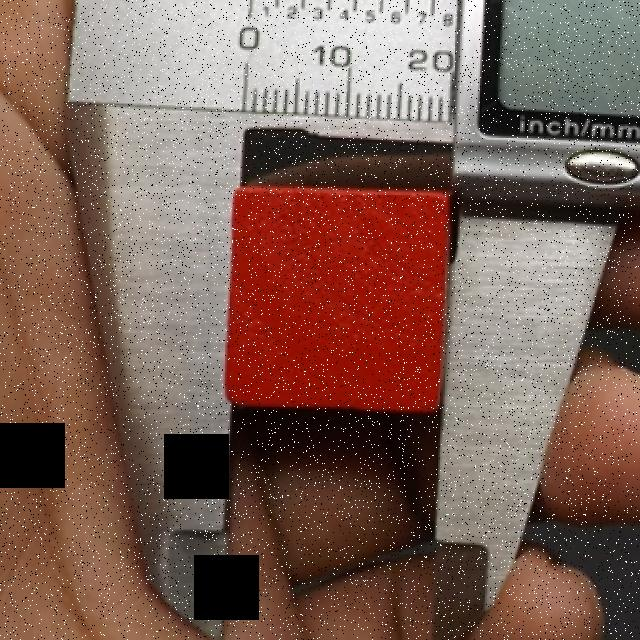red cube: (223, 152, 458, 416)
